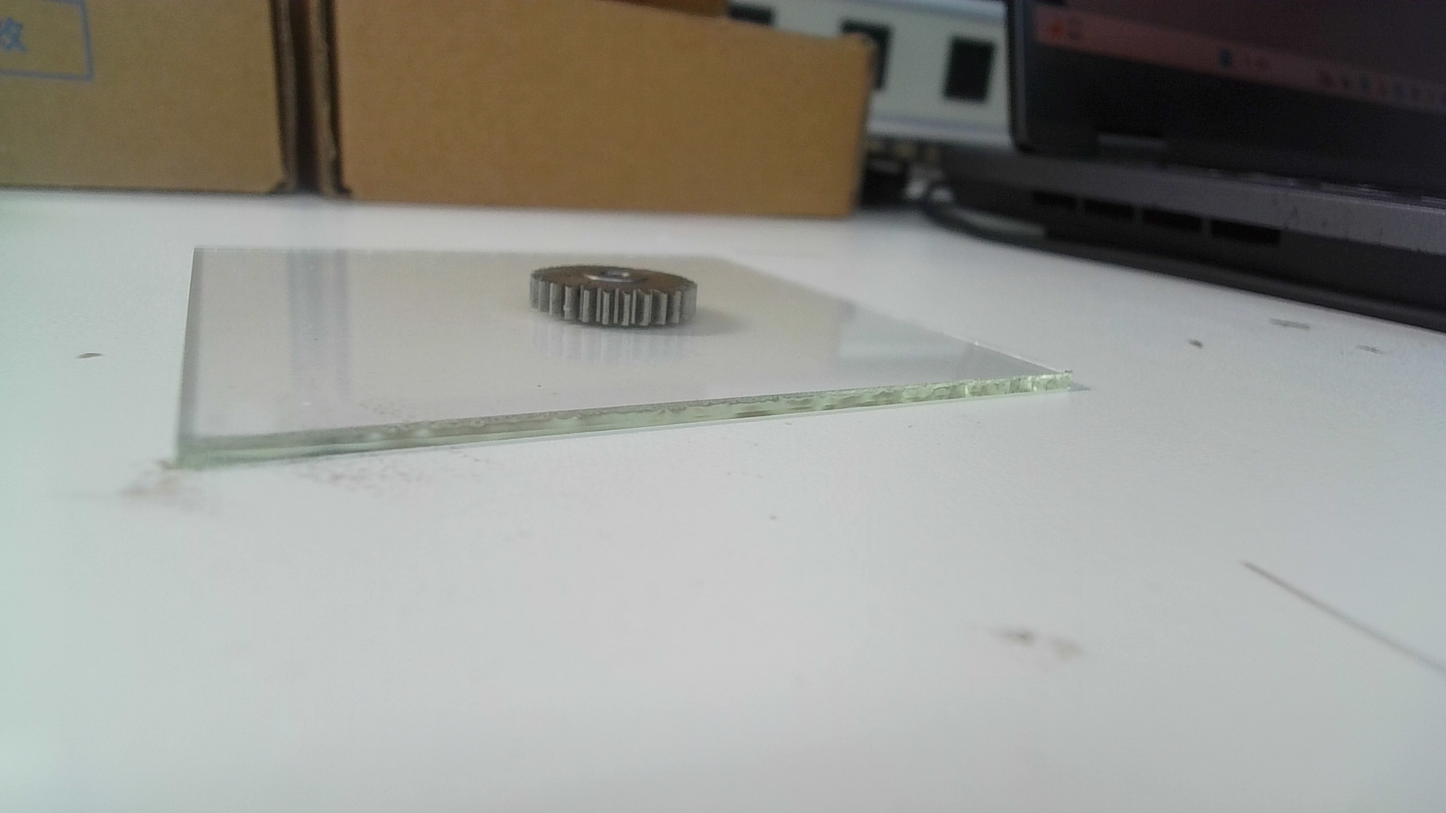gear: (526, 264, 702, 331)
